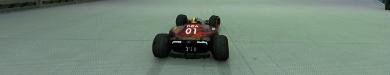Car: (151, 13, 229, 60)
grass: (0, 0, 389, 74)
